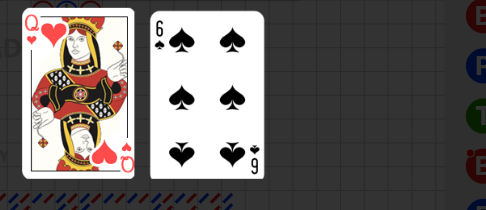6S: (154, 19, 167, 53), (248, 143, 260, 176)
